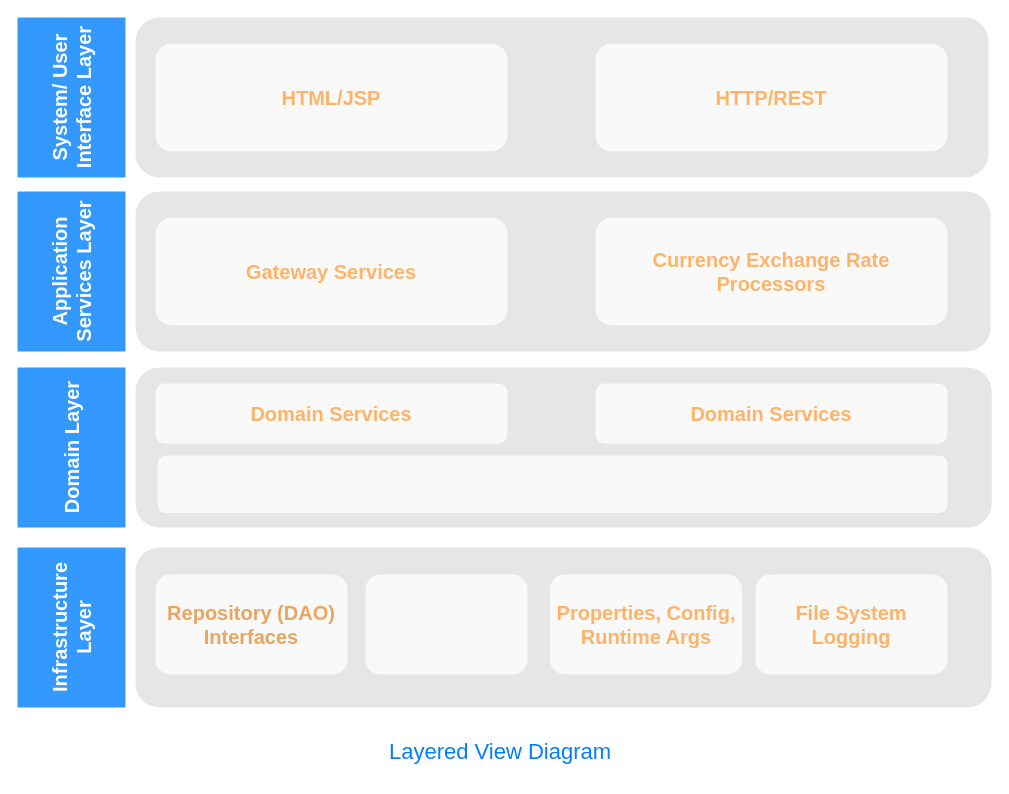
Image size: 1009x794. Some labels were removed from this diagram. The shapes that lost their labels are listed below. From the top down, each one's box as (x1, y1, x2, y2) in pixels, then its label:
(157, 455, 947, 512): Domain Models
(365, 574, 527, 674): DNS Load Balancer
